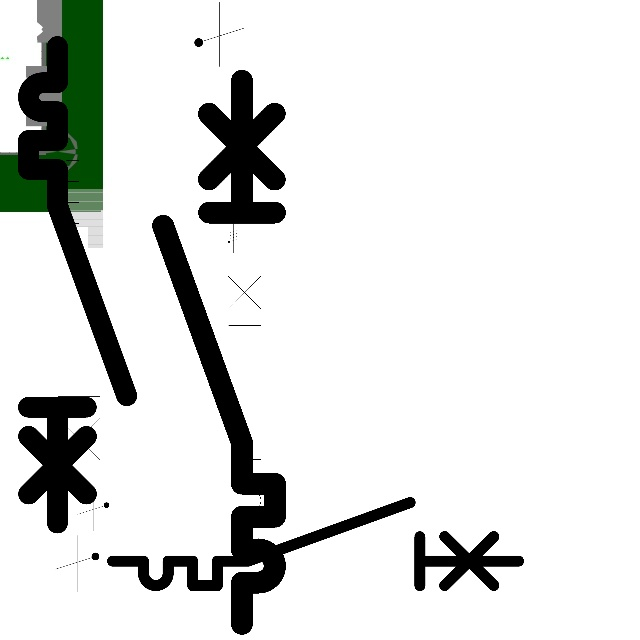interruptor_termomagnetico: (149, 66, 289, 637), (16, 34, 138, 535), (102, 492, 529, 596), (49, 125, 138, 489), (199, 253, 268, 536)
